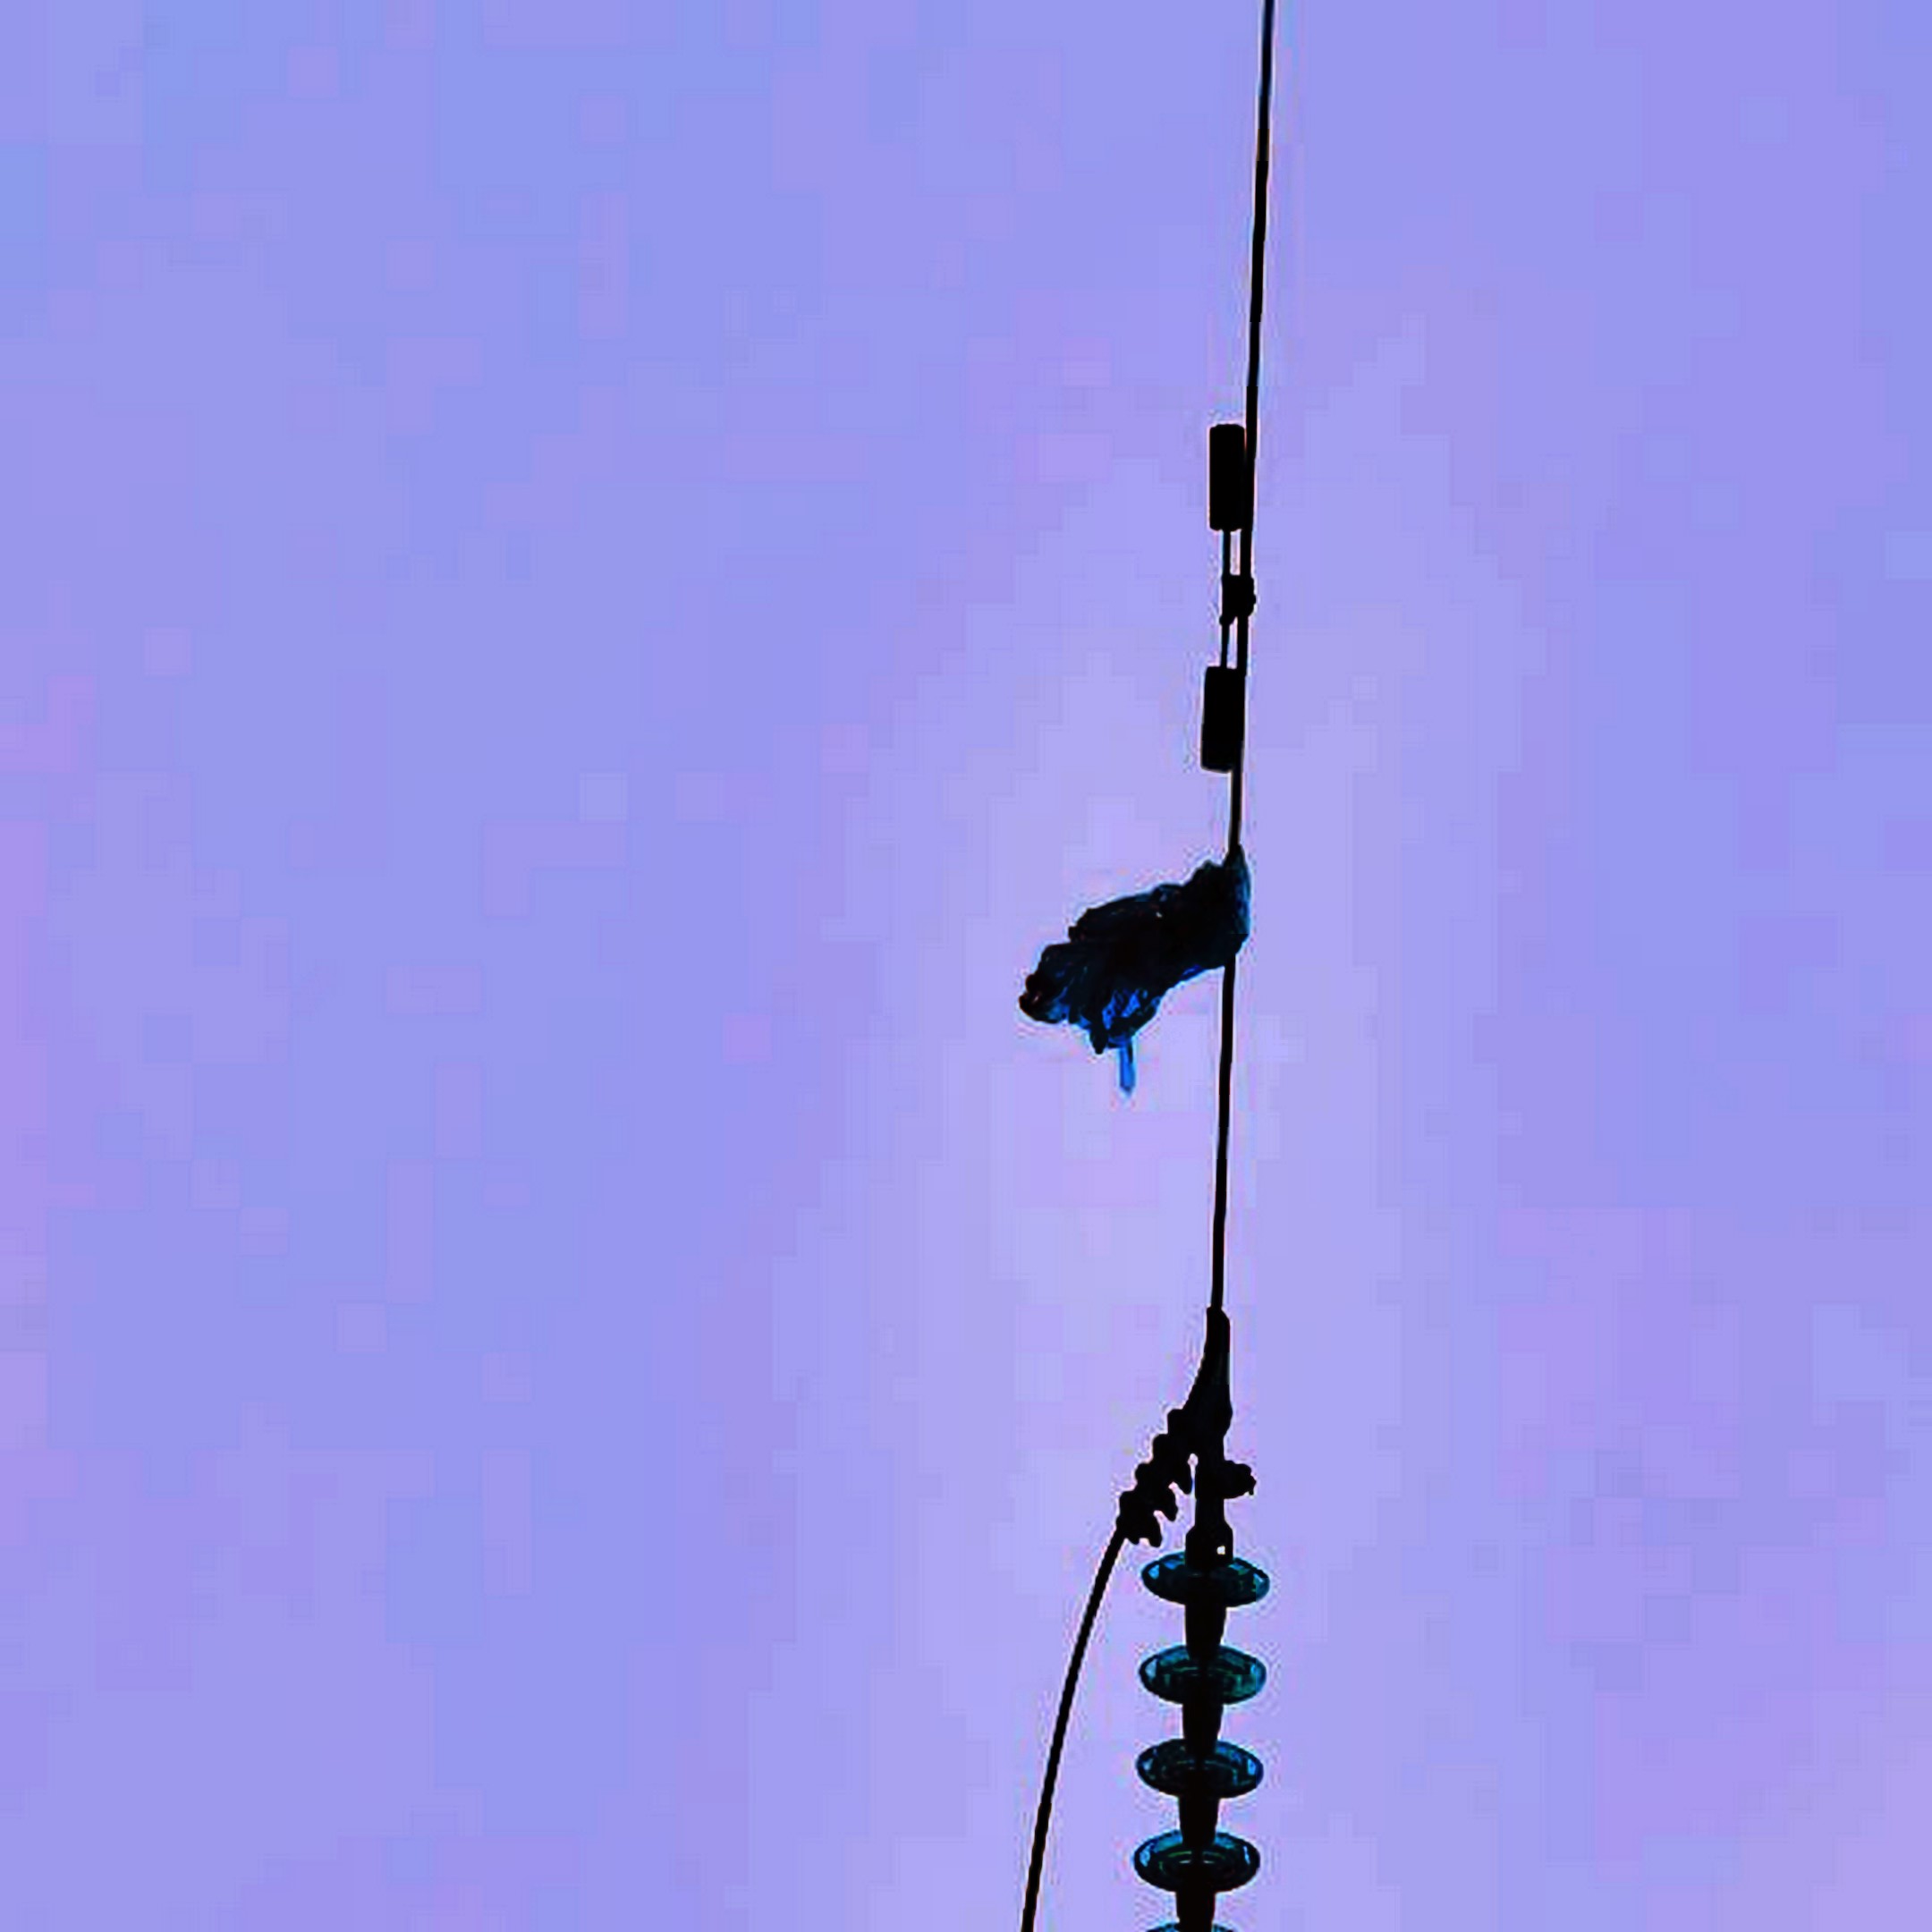wire foreign body: (989, 817, 1293, 1100)
